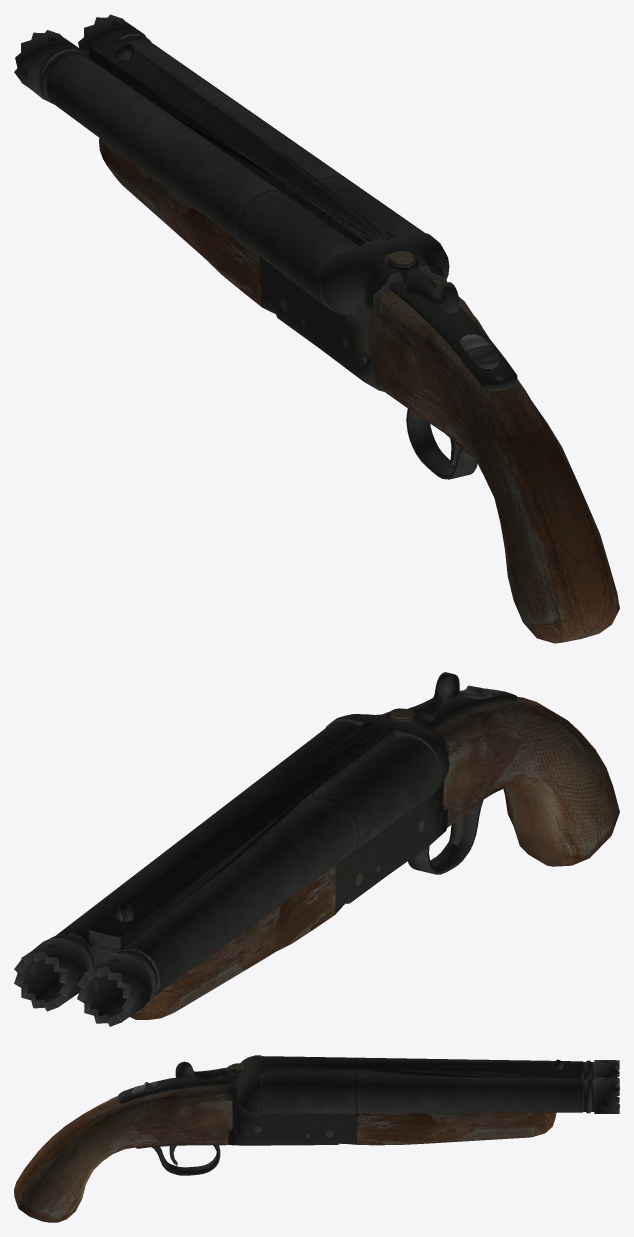
Rendered from ShotgunLoad.obj.
3 renders of one model, top to bottom at view 1: azimuth 30°, elevation 25°; view 2: azimuth 150°, elevation 25°; view 3: azimuth 270°, elevation 25°, orthographic. The views are drawn at different scales.
Visible parts, largest first — view 1: ShotgunReceiver_1, ShotgunReceiver_3, ShotgunReceiver_0, ShotgunReceiver_2, ShotgunReceiver_4; view 2: ShotgunReceiver_1, ShotgunReceiver_3, ShotgunReceiver_0, ShotgunReceiver_4, ShotgunReceiver_2; view 3: ShotgunReceiver_1, ShotgunReceiver_3, ShotgunReceiver_0, ShotgunReceiver_2, ShotgunReceiver_4.
Part boxes in pixels (box(x1,y1,x2,y2)): ShotgunReceiver_1: box(46, 38, 424, 310); ShotgunReceiver_3: box(368, 280, 619, 643); ShotgunReceiver_0: box(261, 232, 517, 479); ShotgunReceiver_2: box(99, 138, 262, 307); ShotgunReceiver_4: box(14, 14, 150, 104); ShotgunReceiver_1: box(56, 721, 440, 997); ShotgunReceiver_3: box(435, 697, 619, 866); ShotgunReceiver_0: box(325, 672, 517, 914); ShotgunReceiver_4: box(14, 934, 158, 1026); ShotgunReceiver_2: box(130, 865, 336, 1019); ShotgunReceiver_1: box(261, 1056, 583, 1113); ShotgunReceiver_3: box(14, 1085, 232, 1222); ShotgunReceiver_0: box(117, 1055, 356, 1175); ShotgunReceiver_2: box(356, 1112, 556, 1145); ShotgunReceiver_4: box(583, 1060, 619, 1113).
Size of the model in its own units: 5.67 by 12.29 by 42.19.
Materials: 5 (5 with a texture image).
